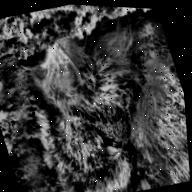boar: (1, 1, 192, 192)
